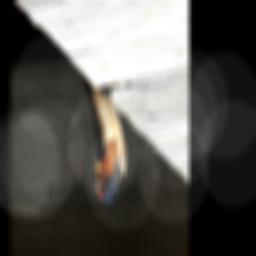Swallow: (88, 84, 127, 208)
